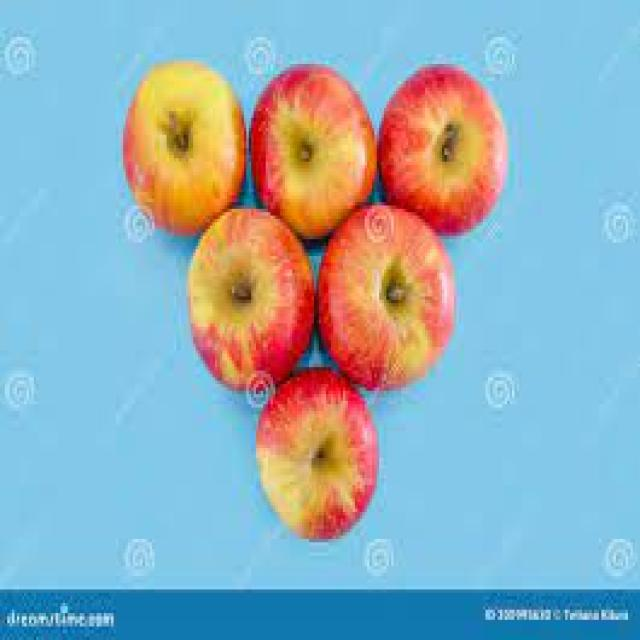non_orange: (108, 34, 266, 264), (236, 339, 386, 562), (170, 195, 322, 402), (351, 48, 528, 225), (304, 201, 462, 392), (244, 34, 374, 231)
